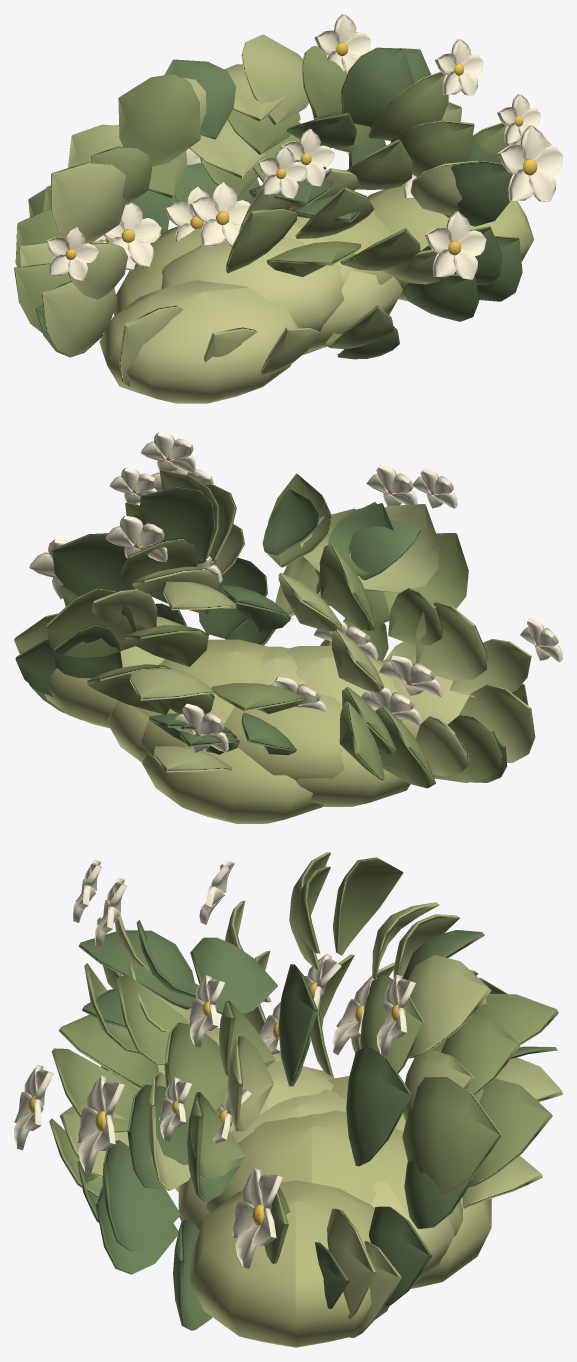
File: garden3d_small_flowers.glb
3 views of the same model, one above another, from view 1: azimuth 30°, elevation 25°; view 2: azimuth 150°, elevation 25°; view 3: azimuth 270°, elevation 25° (orthographic). The views are drawn at different scales.
Parts seen in each view (by area): view 1: Shrub / individual folded leaves (×3), Shrub / moss volumes (×2), Shrub / daisies / sculpted petals, Shrub / top flowers / sculpted petals, Shrub / daisies / pollen dome; view 2: Shrub / individual folded leaves (×3), Shrub / moss volumes (×2), Shrub / daisies / sculpted petals, Shrub / top flowers / sculpted petals; view 3: Shrub / individual folded leaves (×3), Shrub / moss volumes (×2), Shrub / daisies / sculpted petals, Shrub / top flowers / sculpted petals, Shrub / daisies / pollen dome.
Part boxes in pixels (x1,y1,x2,y2): Shrub / individual folded leaves (×3): [14, 34, 522, 386]; Shrub / moss volumes (×2): [99, 185, 533, 403]; Shrub / daisies / sculpted petals: [47, 14, 562, 280]; Shrub / top flowers / sculpted petals: [93, 174, 416, 270]; Shrub / daisies / pollen dome: [66, 42, 537, 259]; Shrub / individual folded leaves (×3): [14, 470, 535, 788]; Shrub / moss volumes (×2): [44, 616, 469, 823]; Shrub / daisies / sculpted petals: [29, 432, 562, 752]; Shrub / top flowers / sculpted petals: [196, 556, 443, 726]; Shrub / individual folded leaves (×3): [49, 852, 562, 1337]; Shrub / moss volumes (×2): [113, 1027, 491, 1347]; Shrub / daisies / sculpted petals: [14, 859, 415, 1268]; Shrub / top flowers / sculpted petals: [212, 953, 376, 1143]; Shrub / daisies / pollen dome: [28, 911, 398, 1226].
Size of the model in its own units: 4.42 by 2.45 by 3.17.
